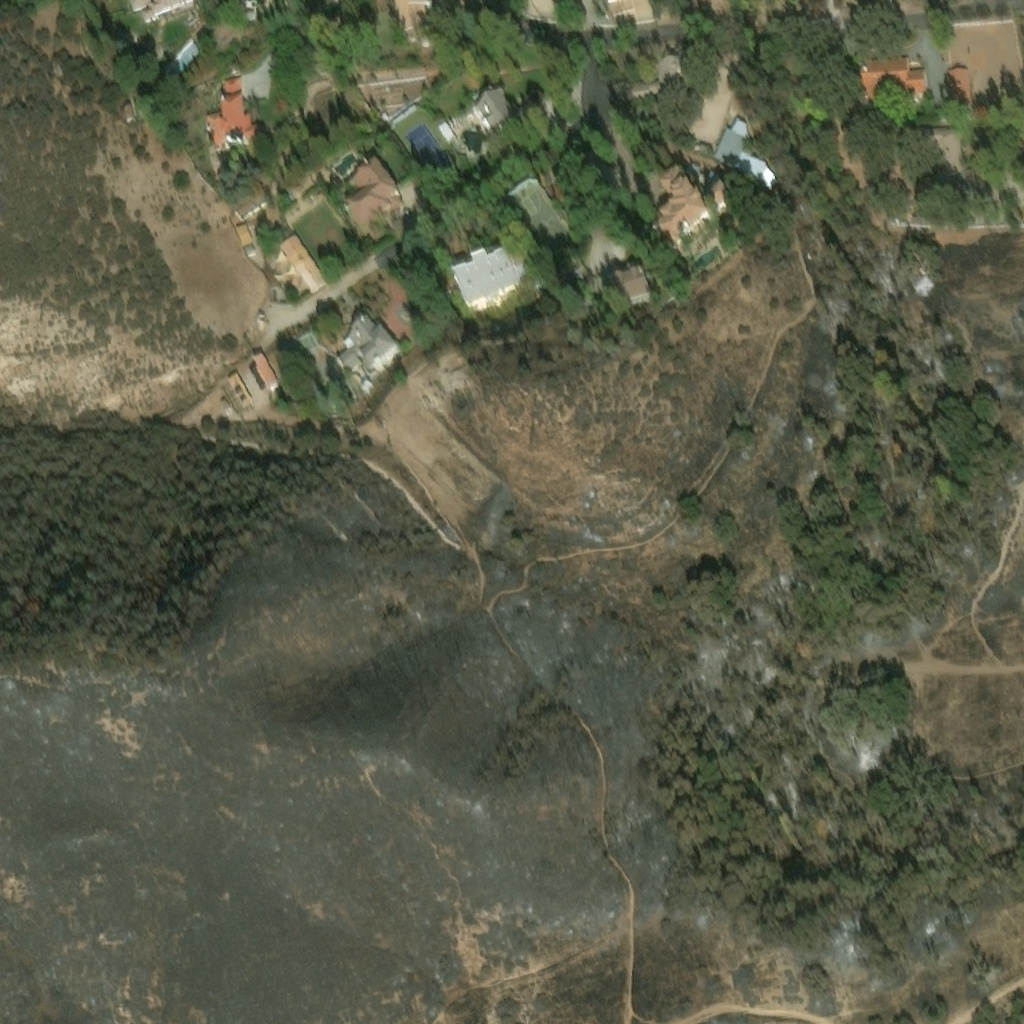0 no-damage: (653, 167, 735, 255), (715, 118, 781, 197), (452, 246, 532, 304), (335, 312, 396, 387), (345, 154, 403, 231), (861, 53, 925, 104), (203, 94, 260, 144), (280, 231, 326, 289), (630, 53, 691, 95), (474, 88, 523, 138), (126, 0, 201, 31), (160, 39, 207, 87), (599, 272, 654, 310), (387, 0, 436, 37), (233, 211, 265, 243), (262, 345, 291, 378), (252, 351, 279, 385), (226, 368, 252, 402), (947, 64, 968, 101), (240, 0, 273, 20), (221, 76, 244, 99), (704, 170, 722, 189), (438, 121, 454, 139), (689, 161, 699, 174)
